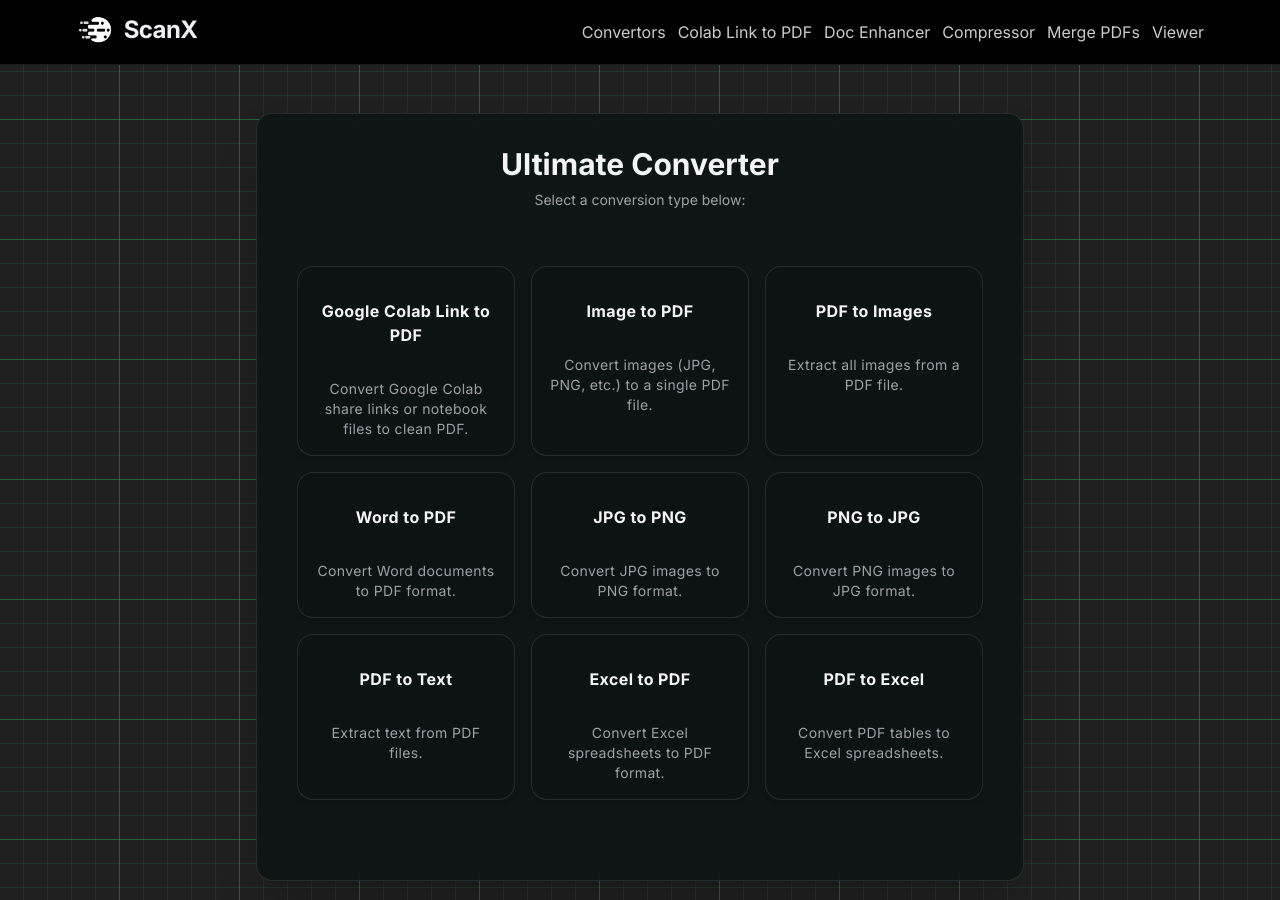
End-to-End Navigation & Routing › navigates to Convertor and clicks a converter option to open sub-tool
The image size is (1280, 900).
Expected: the heading "Ultimate Converter" is shown, [501,146,779,182]
Click the link "Image to PDF".
click(640, 361)  # box [523,258,757,464]
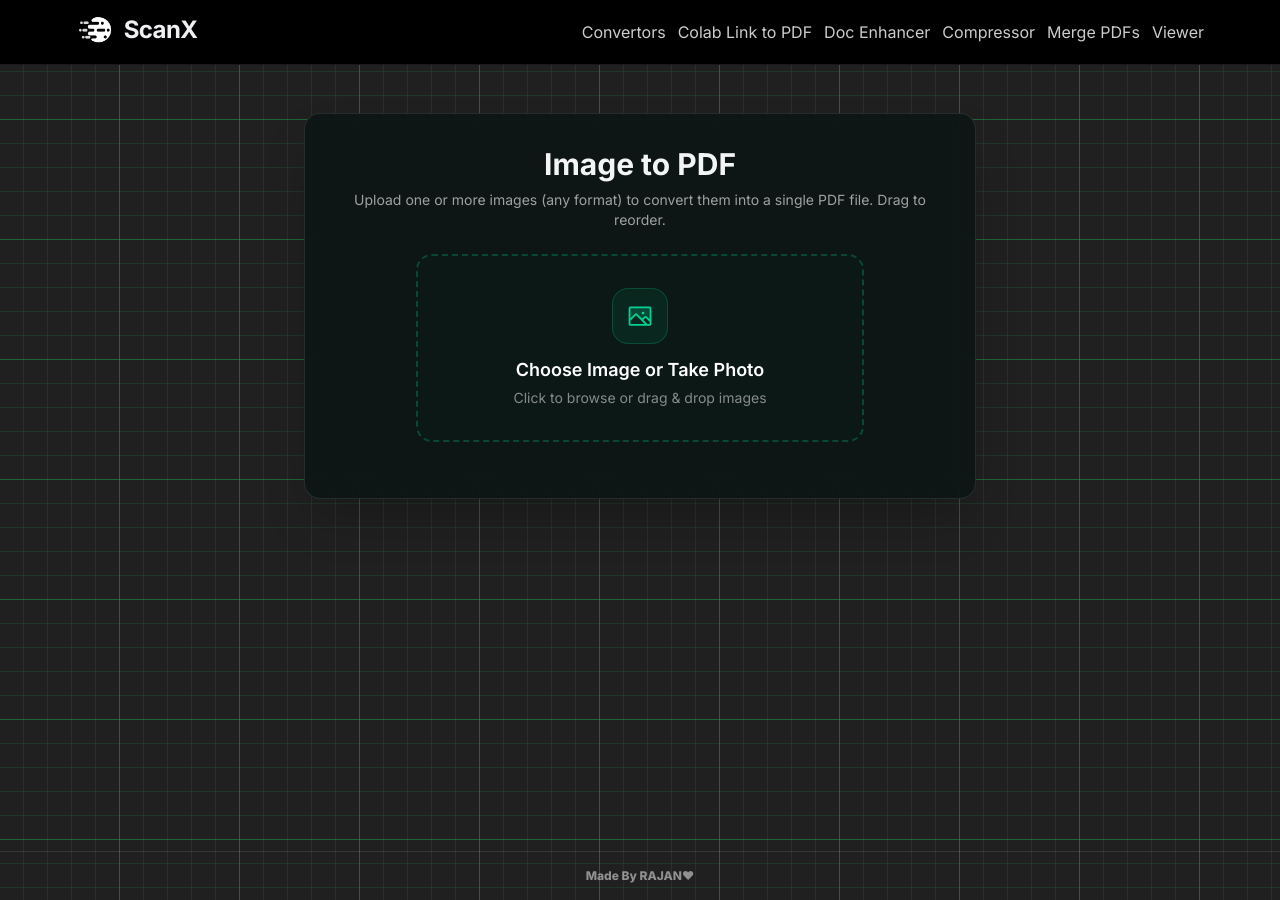
Expected: the heading "Image to PDF" is shown, [544,146,736,182]
